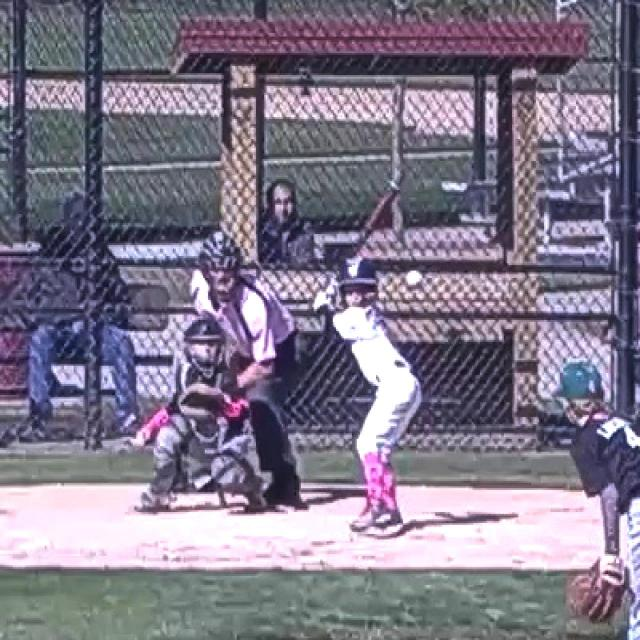baseball: (406, 270, 422, 286)
